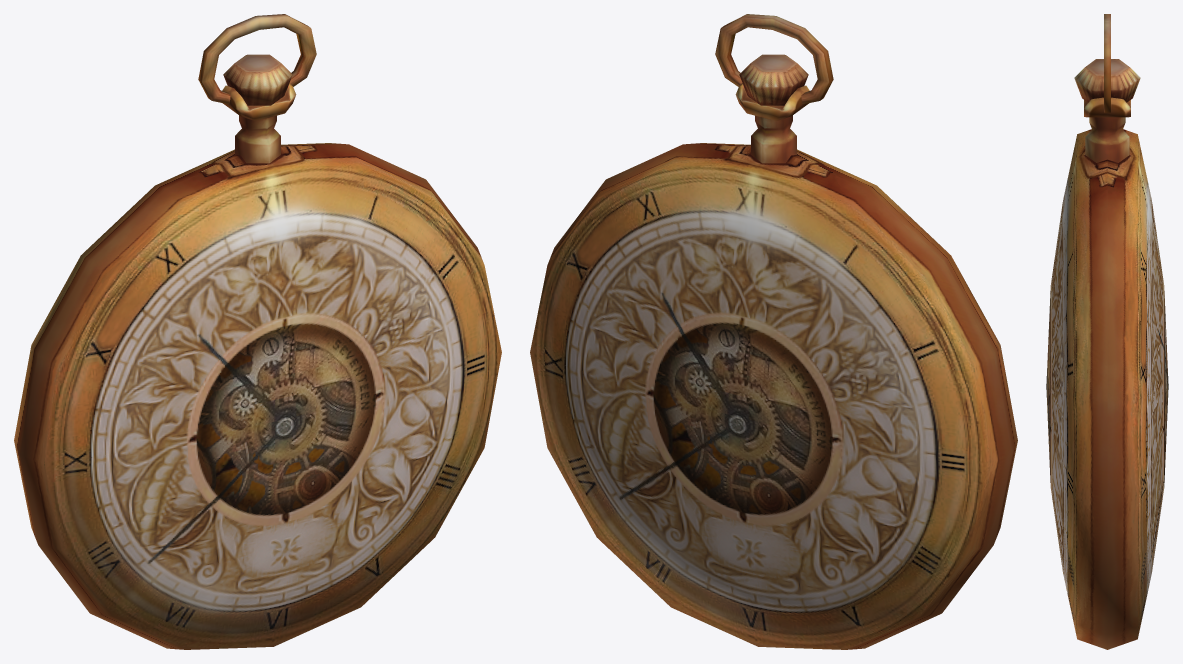
3 renders of one model, left to right at view 1: azimuth 30°, elevation 25°; view 2: azimuth 150°, elevation 25°; view 3: azimuth 270°, elevation 25°, orthographic. The views are drawn at different scales.
Parts seen in each view (by area): view 1: Bone001; view 2: Bone001; view 3: Bone001.
Boxes of the visible parts, x1,y1,x2,y2 form: Bone001: (14,14,501,649); Bone001: (530,14,1017,649); Bone001: (1046,14,1168,649).
Size of the model in its own units: 54.14 by 68.33 by 12.56.
